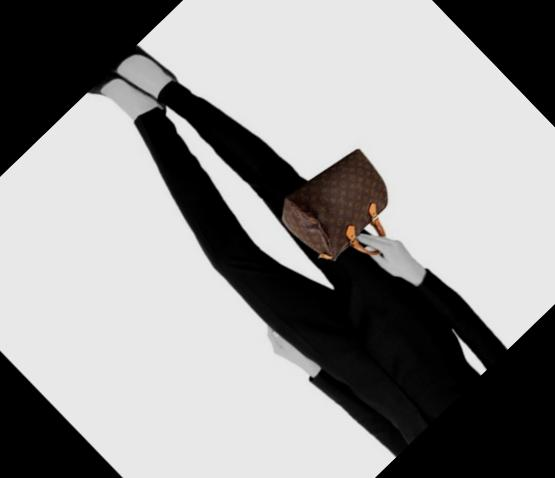LOUIS-VUITTON: (268, 137, 400, 268)
